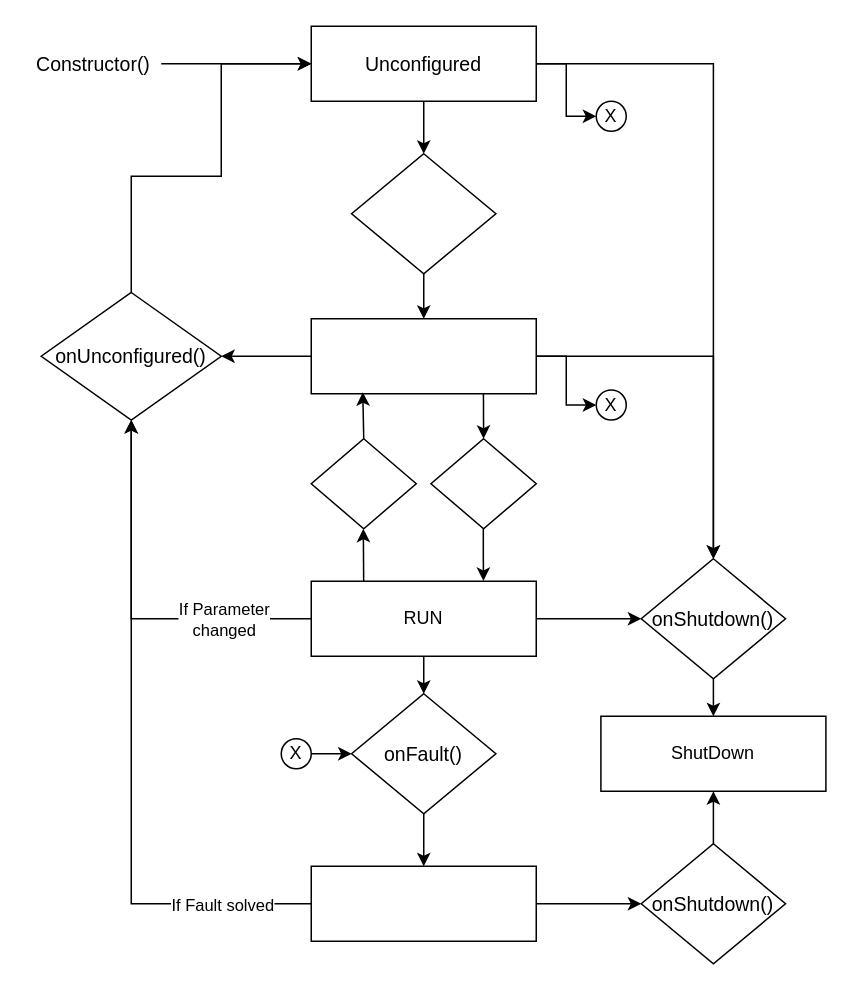
Image size: 852x990. Some labels were removed from this diagram. Here are the shapes that lost their labels. From the top down, the box of each, then its label:
(350, 152, 496, 274): onConfigured()
(310, 317, 536, 394): STAND BY
(310, 437, 416, 529): onStop()
(429, 437, 536, 529): onRun()
(310, 865, 536, 941): FAULT
